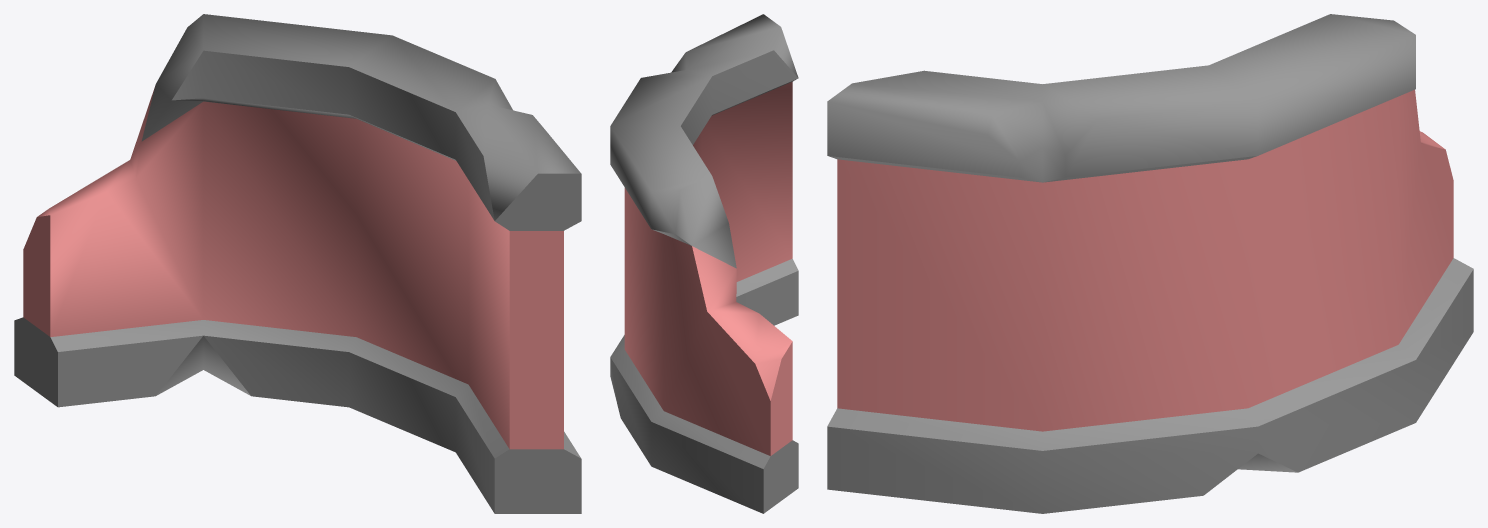
Rendered from skruins_wall01.gltf.
3 views of the same model, side by side, from view 1: azimuth 30°, elevation 25°; view 2: azimuth 150°, elevation 25°; view 3: azimuth 270°, elevation 25° (orthographic). The views are drawn at different scales.
Visible parts, largest first — view 1: skruins_wall01; view 2: skruins_wall01; view 3: skruins_wall01.
Boxes of the visible parts, <box> form: skruins_wall01: <box>14,14,581,513</box>; skruins_wall01: <box>610,14,798,513</box>; skruins_wall01: <box>827,14,1473,513</box>.
Bounding box in the file's own units: 1.68 × 1.67 × 2.53.
